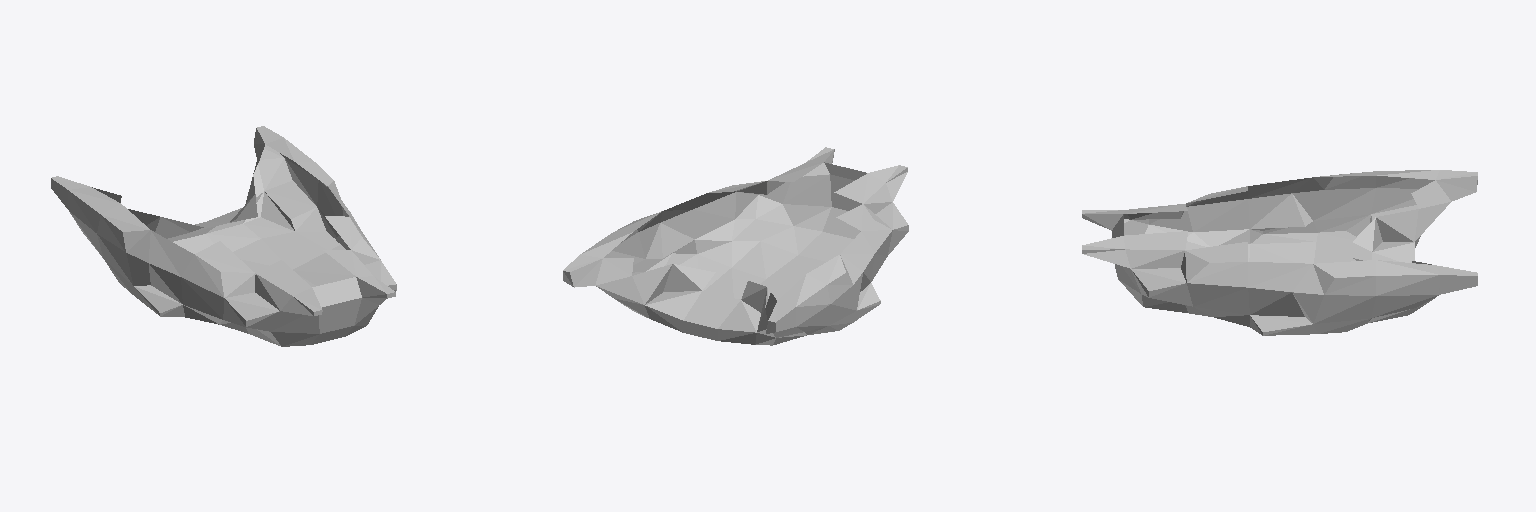
File: spaceship_cargo.obj
The picture shows the model from 3 angles: view 1: azimuth 30°, elevation 25°; view 2: azimuth 150°, elevation 25°; view 3: azimuth 270°, elevation 25°; orthographic projection.
Visible parts, largest first — view 1: cargo_Cylinder.012; view 2: cargo_Cylinder.012; view 3: cargo_Cylinder.012.
Part boxes in pixels (x1,y1,x2,y2): cargo_Cylinder.012: (51, 126, 396, 346); cargo_Cylinder.012: (563, 147, 908, 345); cargo_Cylinder.012: (1082, 170, 1477, 335).
Bounding box in the file's own units: 12.39 × 4.23 × 19.16.